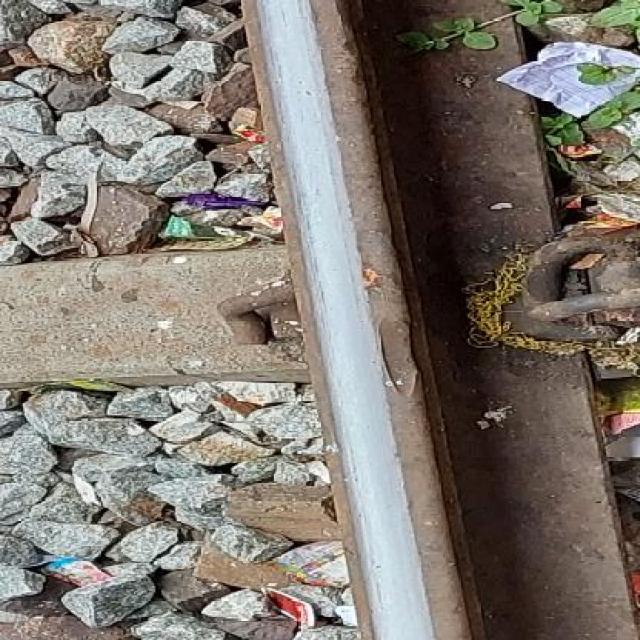non-defective: (220, 0, 492, 640)
